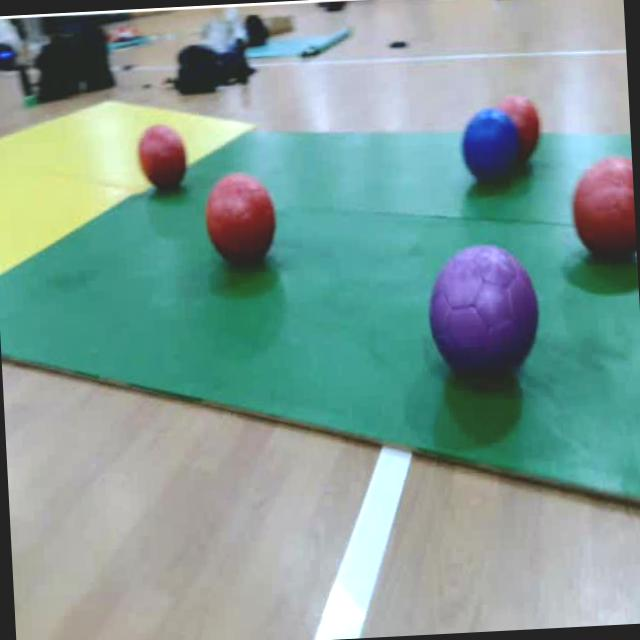blue_ball: (457, 115, 522, 194)
purple_ball: (424, 240, 544, 399)
red_ball: (201, 168, 278, 281), (567, 156, 638, 268), (136, 122, 190, 194), (516, 90, 547, 146)
